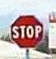stop: (9, 13, 45, 48)
